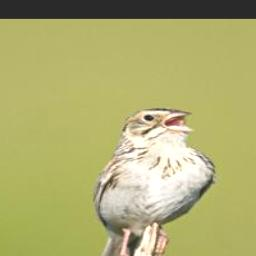Sparrow: (86, 106, 221, 256)
